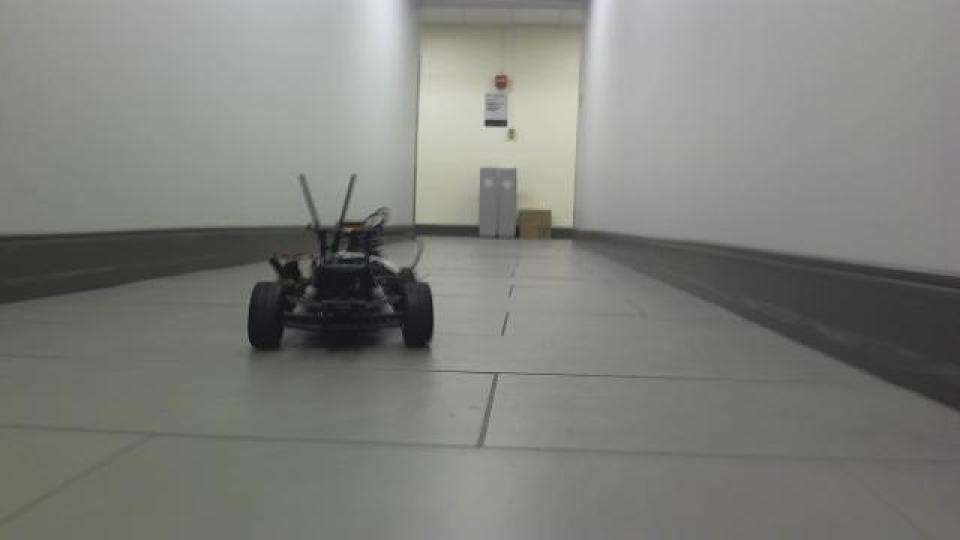car: (243, 170, 437, 354)
